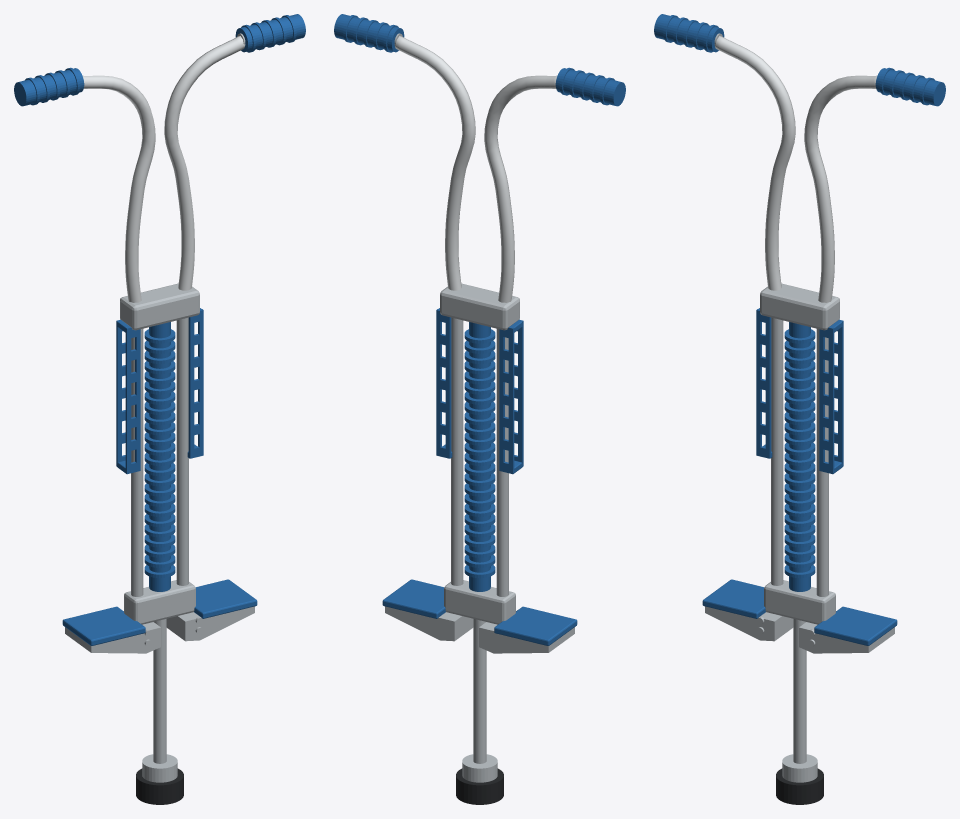
The model's file is full.glb.
3 renders of one model, left to right at view 1: azimuth 30°, elevation 25°; view 2: azimuth 150°, elevation 25°; view 3: azimuth 330°, elevation 25°, orthographic.
Visible parts, largest first — view 1: Right curved upper rail, Left curved upper rail, Right lower silver rail, Central ribbed core, Wide upper transition collar, Left lower silver rail, Lower rail cross support, Left pierced sleeve -0.012, Right pierced sleeve -0.012, Left blue footrest top, Central lower shaft, Right blue footrest top (+7 smaller); view 2: Right curved upper rail, Left curved upper rail, Right lower silver rail, Central ribbed core, Wide upper transition collar, Left lower silver rail, Lower rail cross support, Left pierced sleeve 0.012, Right pierced sleeve 0.012, Left blue footrest top, Central lower shaft, Right blue footrest top (+7 smaller); view 3: Left curved upper rail, Right curved upper rail, Left lower silver rail, Central ribbed core, Wide upper transition collar, Right lower silver rail, Lower rail cross support, Right pierced sleeve -0.012, Left pierced sleeve -0.012, Right blue footrest top, Central lower shaft, Left blue footrest top (+7 smaller).
Boxes of the visible parts, left/top/right/bottom form: Right curved upper rail: left=164, top=36, right=245, bottom=290; Left curved upper rail: left=82, top=75, right=155, bottom=302; Right lower silver rail: left=176, top=317, right=188, bottom=585; Central ribbed core: left=149, top=322, right=170, bottom=591; Wide upper transition collar: left=120, top=283, right=199, bottom=330; Left lower silver rail: left=131, top=328, right=143, bottom=596; Lower rail cross support: left=124, top=580, right=195, bottom=624; Left pierced sleeve -0.012: left=125, top=326, right=140, bottom=473; Right pierced sleeve -0.012: left=188, top=309, right=203, bottom=458; Left blue footrest top: left=62, top=606, right=145, bottom=645; Central lower shaft: left=153, top=619, right=166, bottom=763; Right blue footrest top: left=194, top=579, right=257, bottom=618; Right curved upper rail: left=394, top=36, right=475, bottom=290; Left curved upper rail: left=484, top=75, right=557, bottom=302; Right lower silver rail: left=451, top=317, right=463, bottom=585; Central ribbed core: left=469, top=322, right=490, bottom=591; Wide upper transition collar: left=440, top=283, right=519, bottom=330; Left lower silver rail: left=496, top=328, right=508, bottom=596; Lower rail cross support: left=444, top=580, right=515, bottom=624; Left pierced sleeve 0.012: left=499, top=326, right=514, bottom=473; Right pierced sleeve 0.012: left=436, top=309, right=451, bottom=458; Left blue footrest top: left=494, top=606, right=577, bottom=645; Central lower shaft: left=473, top=619, right=486, bottom=763; Right blue footrest top: left=382, top=579, right=445, bottom=618; Left curved upper rail: left=714, top=36, right=795, bottom=290; Right curved upper rail: left=804, top=75, right=877, bottom=302; Left lower silver rail: left=771, top=317, right=783, bottom=585; Central ribbed core: left=789, top=322, right=810, bottom=591; Wide upper transition collar: left=760, top=283, right=839, bottom=330; Right lower silver rail: left=816, top=328, right=828, bottom=596; Lower rail cross support: left=764, top=580, right=835, bottom=624; Right pierced sleeve -0.012: left=819, top=326, right=834, bottom=473; Left pierced sleeve -0.012: left=756, top=309, right=771, bottom=458; Right blue footrest top: left=814, top=606, right=897, bottom=645; Central lower shaft: left=793, top=619, right=806, bottom=763; Left blue footrest top: left=702, top=579, right=765, bottom=618.
Size of the model in its own units: 0.416 by 1.06 by 0.075.
